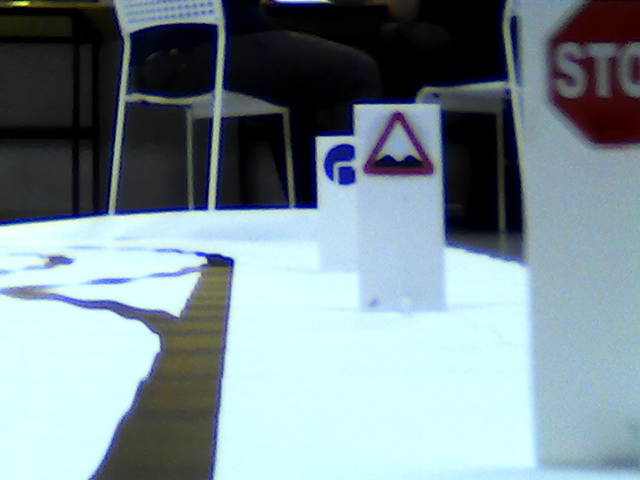Nerov: (362, 110, 435, 175)
Stop: (542, 1, 640, 156)
